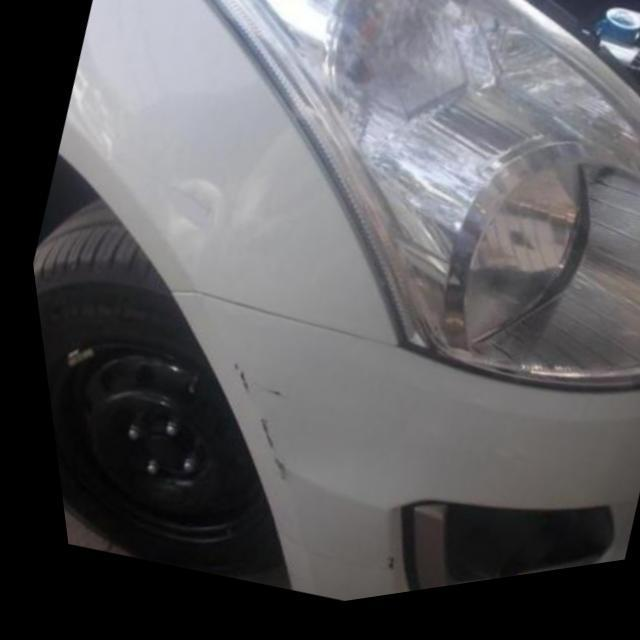crack: (247, 417, 275, 494), (242, 385, 284, 411), (222, 355, 242, 407)
